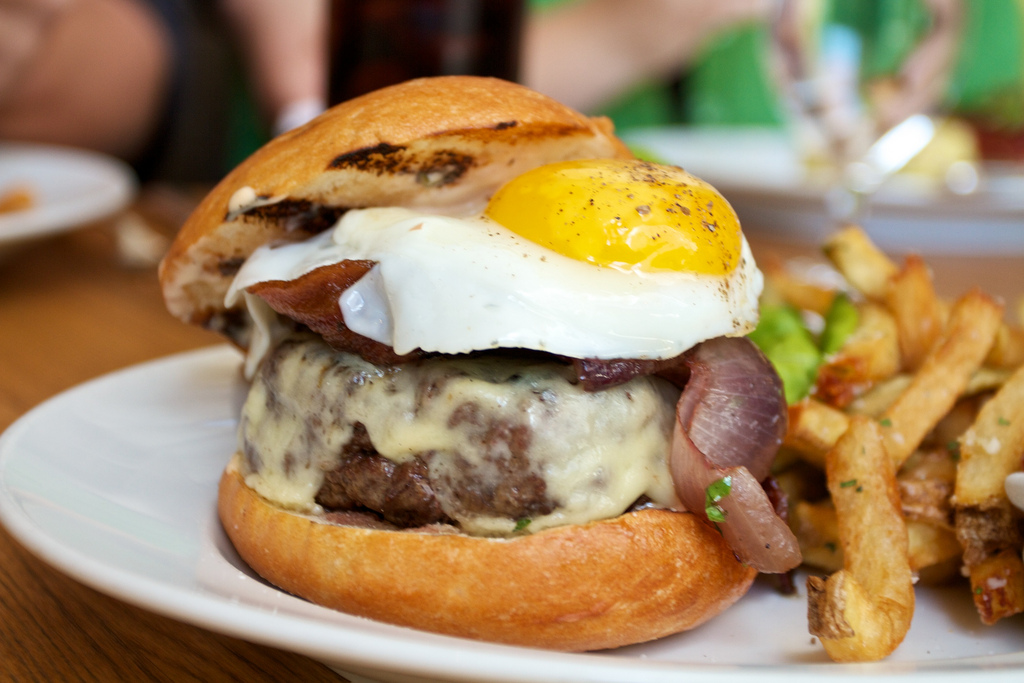fried egg: (361, 155, 760, 336)
slice of bread: (136, 66, 560, 276), (212, 516, 765, 660)
